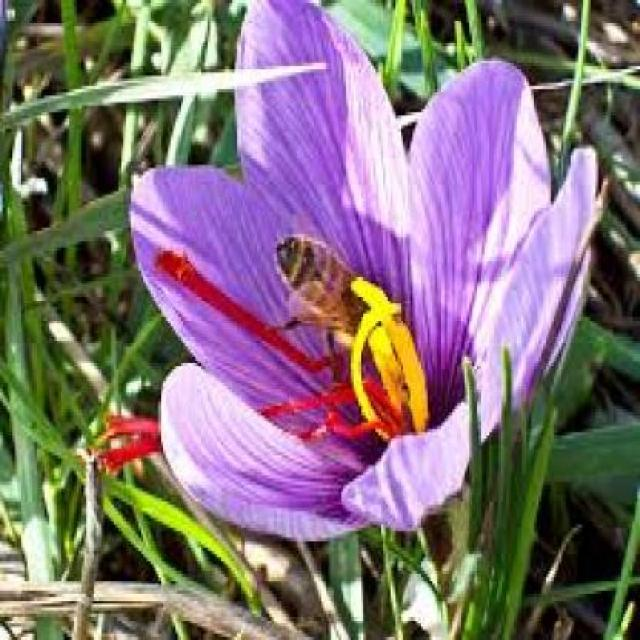saffron open: (131, 0, 600, 539)
